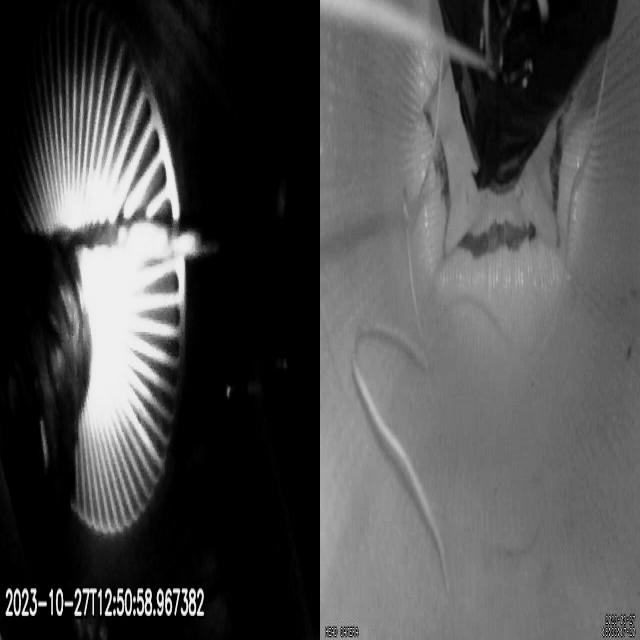red-circle: (424, 102, 570, 259)
